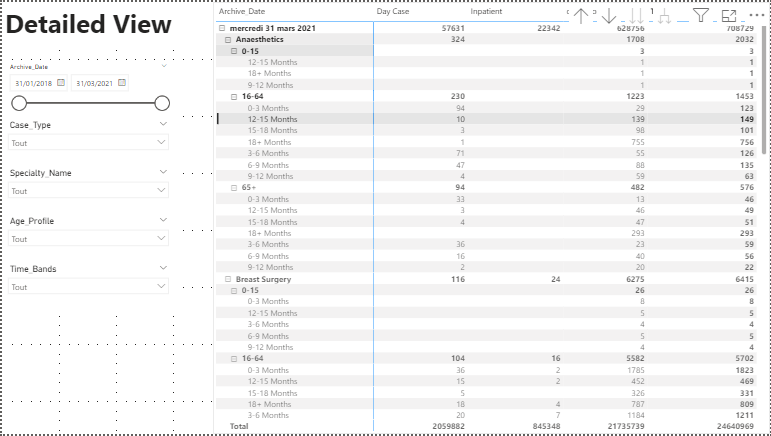

The dashboard page shown, as its layout file describes it:
{"tool":"powerbi","page":{"name":"detail","canvas":[1280,720],"ordinal":1},"visuals":[{"type":"slicer","fields":{"Values":["All_Data.Archive_Date"]},"box":[32,128,288,96],"z":0},{"type":"slicer","fields":{"Values":["All_Data.Case_Type"]},"box":[32,224,288,80],"z":1000},{"type":"slicer","fields":{"Values":["All_Data.Specialty_Name"]},"box":[32,304,288,80],"z":2000},{"type":"textbox","box":[31.7,13.3,320,83.3],"z":3000},{"type":"slicer","fields":{"Values":["All_Data.Age_Profile"]},"box":[32,384,288,80],"z":4000},{"type":"slicer","fields":{"Values":["All_Data.Time_Bands"]},"box":[32,464,288,80],"z":5000},{"type":"pivotTable","fields":{"Rows":["All_Data.Archive_Date","All_Data.Specialty_Name","All_Data.Age_Profile","All_Data.Time_Bands"],"Columns":["All_Data.Case_Type"],"Values":["Sum(All_Data.Total)"]},"box":[366.7,13.3,886.7,690],"z":6000}]}

Visuals, with their boxes in screenshot pixels (x1, y1, x2, y2), scaled from the page's 1280x720 canvas onto the 771x436 screenshot:
slicer - All_Data.Archive_Date: rect(19, 78, 193, 136)
slicer - All_Data.Case_Type: rect(19, 136, 193, 184)
slicer - All_Data.Specialty_Name: rect(19, 184, 193, 233)
textbox: rect(19, 8, 212, 58)
slicer - All_Data.Age_Profile: rect(19, 233, 193, 281)
slicer - All_Data.Time_Bands: rect(19, 281, 193, 329)
pivotTable - All_Data.Archive_Date x All_Data.Specialty_Name: rect(221, 8, 755, 426)
